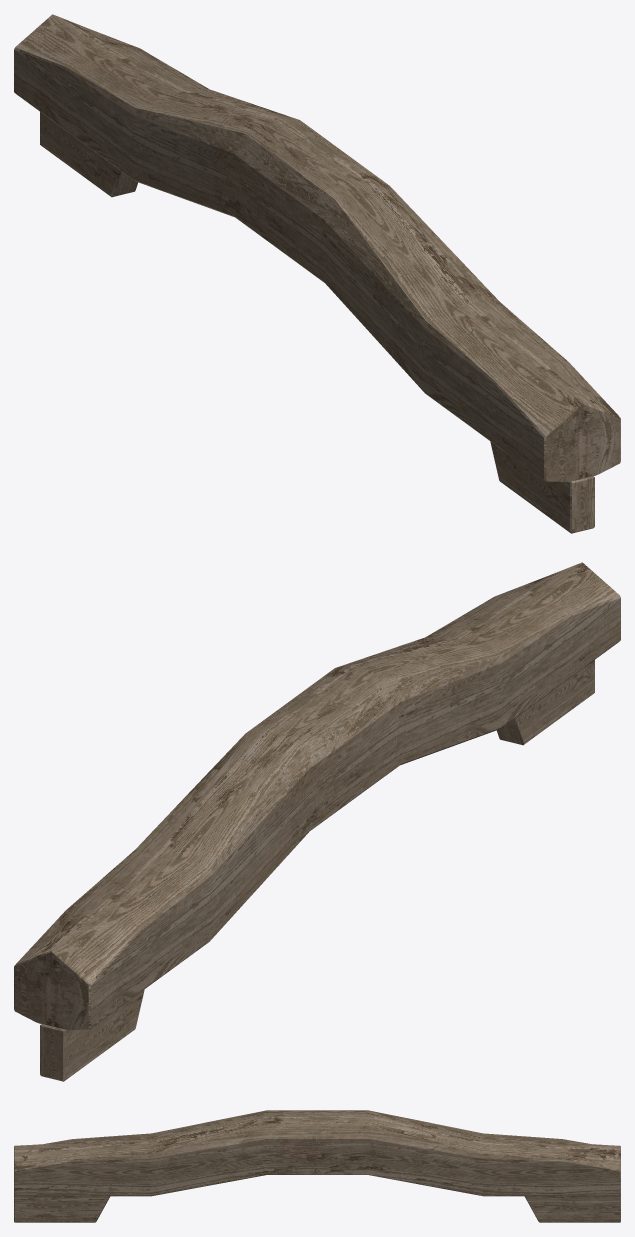
Rendered from SM_JWD_Daedeulbo.fbx.
The picture shows the model from 3 angles, top to bottom: view 1: azimuth 30°, elevation 25°; view 2: azimuth 150°, elevation 25°; view 3: azimuth 270°, elevation 25°; orthographic projection. The views are drawn at different scales.
Visible parts, largest first — view 1: SM_JWD_Daedeulbo; view 2: SM_JWD_Daedeulbo; view 3: SM_JWD_Daedeulbo.
Part boxes in pixels (<box>): SM_JWD_Daedeulbo: <box>14,14,620,533</box>; SM_JWD_Daedeulbo: <box>14,562,620,1081</box>; SM_JWD_Daedeulbo: <box>14,1110,620,1222</box>.
Size of the model in its own units: 31 by 370 by 70.38.
Materials: 1 (1 with a texture image).
